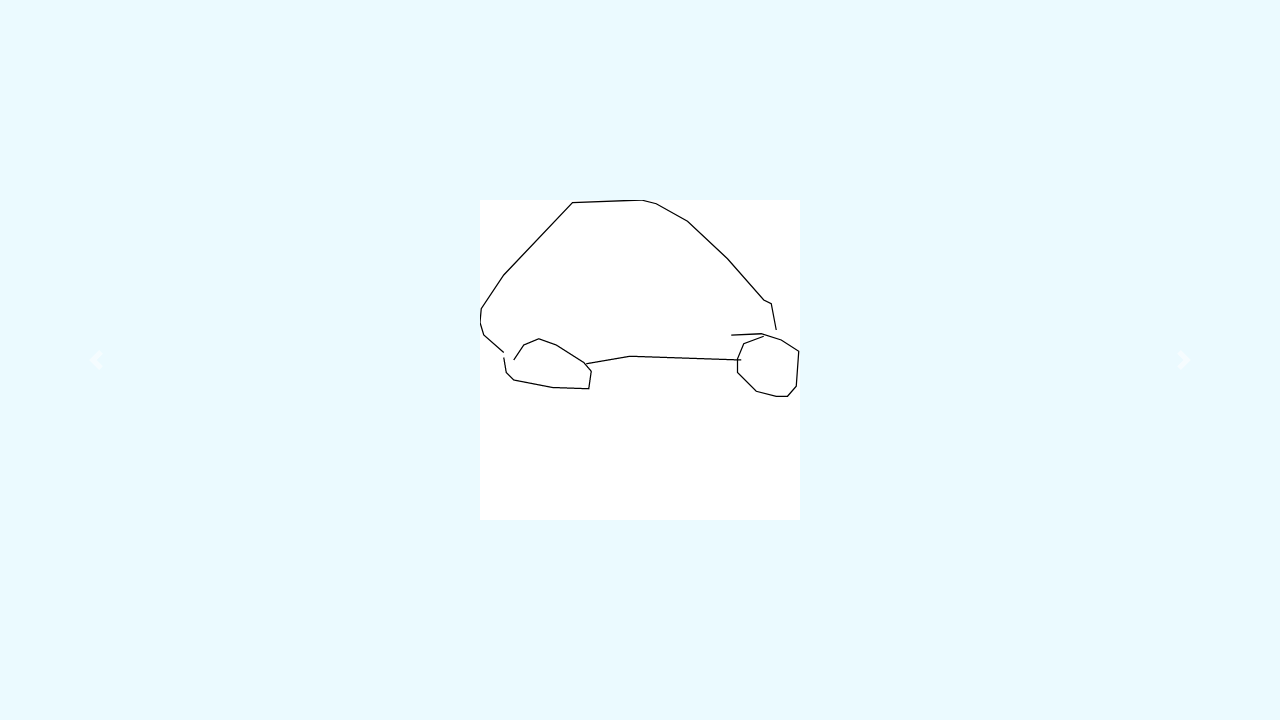car: (474, 196, 806, 403)
